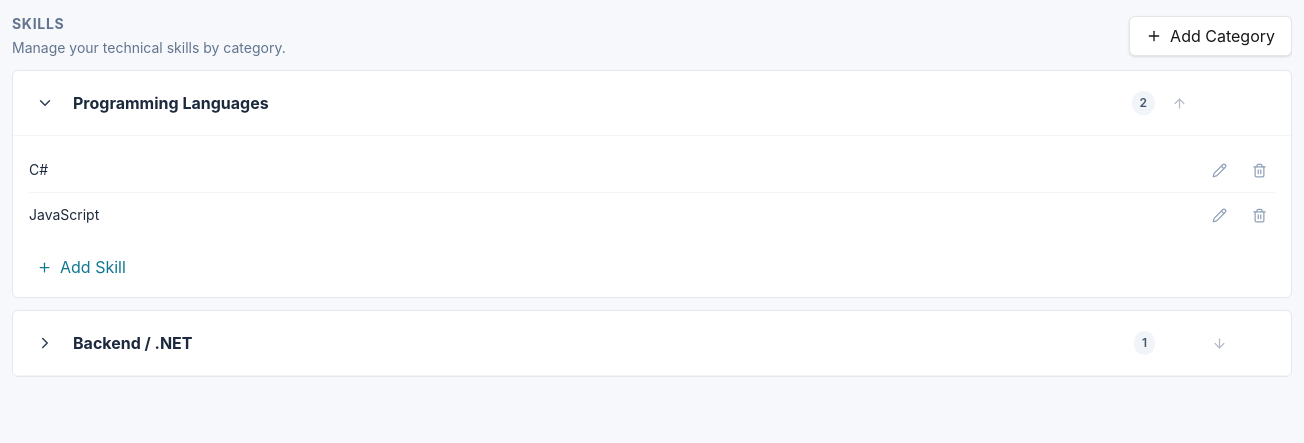
Test: SkillsCategoryEditor › adds a skill with Enter, edits it inline, and deletes a skill row
Click the button "Add Skill": [81, 267] box [29,249,134,285]
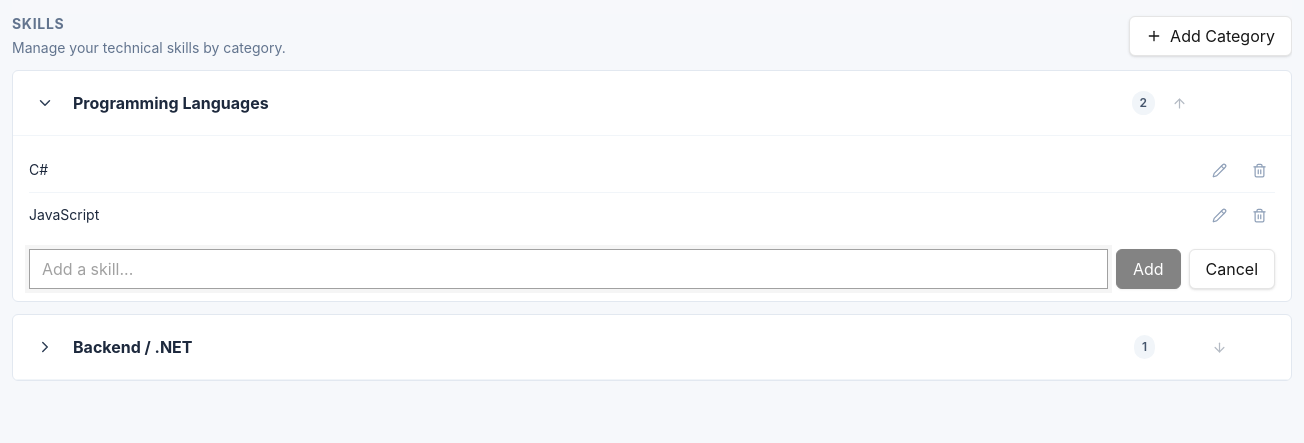
In the field named "Add skill to Programming Languages": [568, 269] box [29,249,1108,289], type "Python"
Then press Enter
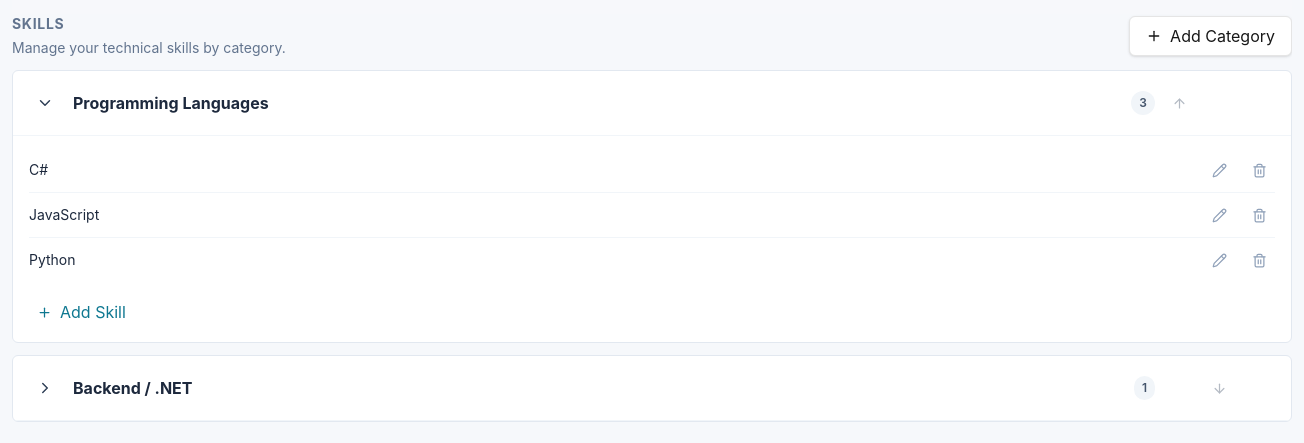
Result: the text "Python" is shown at [29,251,76,268]
Click the button named "Edit Python": [1219, 260] box [1203,244,1235,276]
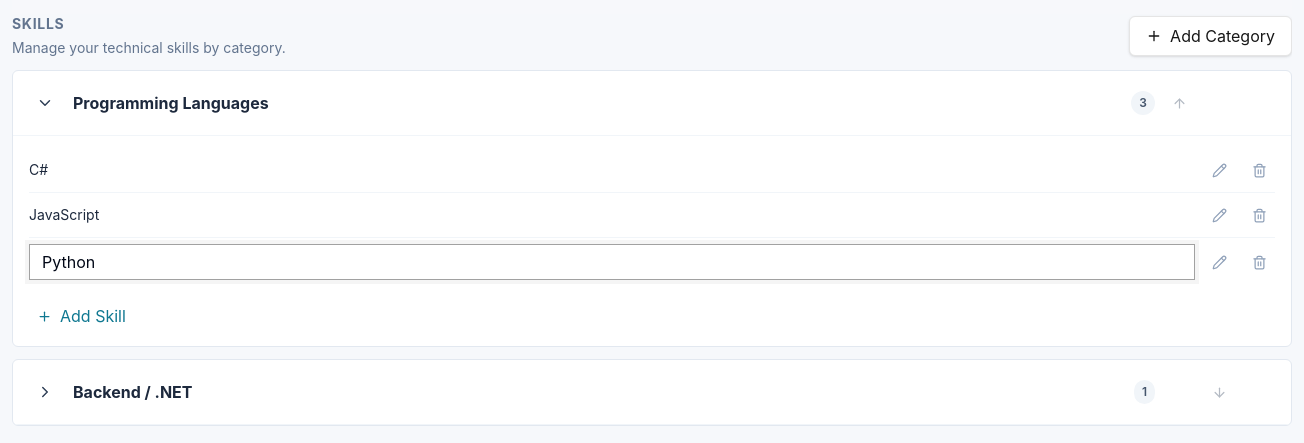
Replace the text in the field named "Edit Python" with "Python 3": [612, 262] box [29,244,1195,280]
Then press Enter
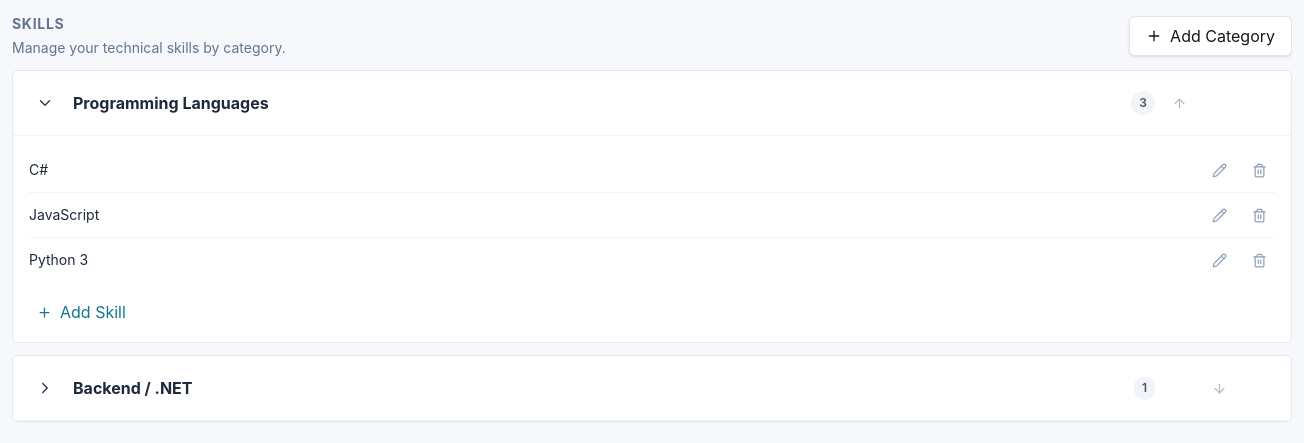
Result: the text "Python 3" is shown at [29,251,88,268]
Click the button named "Delete JavaScript": [1259, 215] box [1243,199,1275,231]
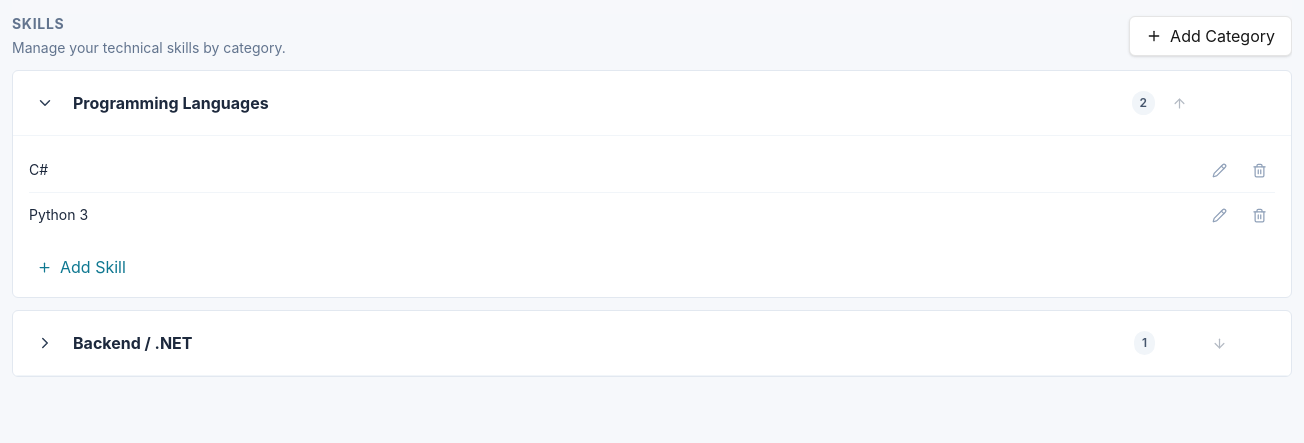
Expected: the text "2" is shown, [1132,91,1155,115]
Result: the text "JavaScript" is gone
